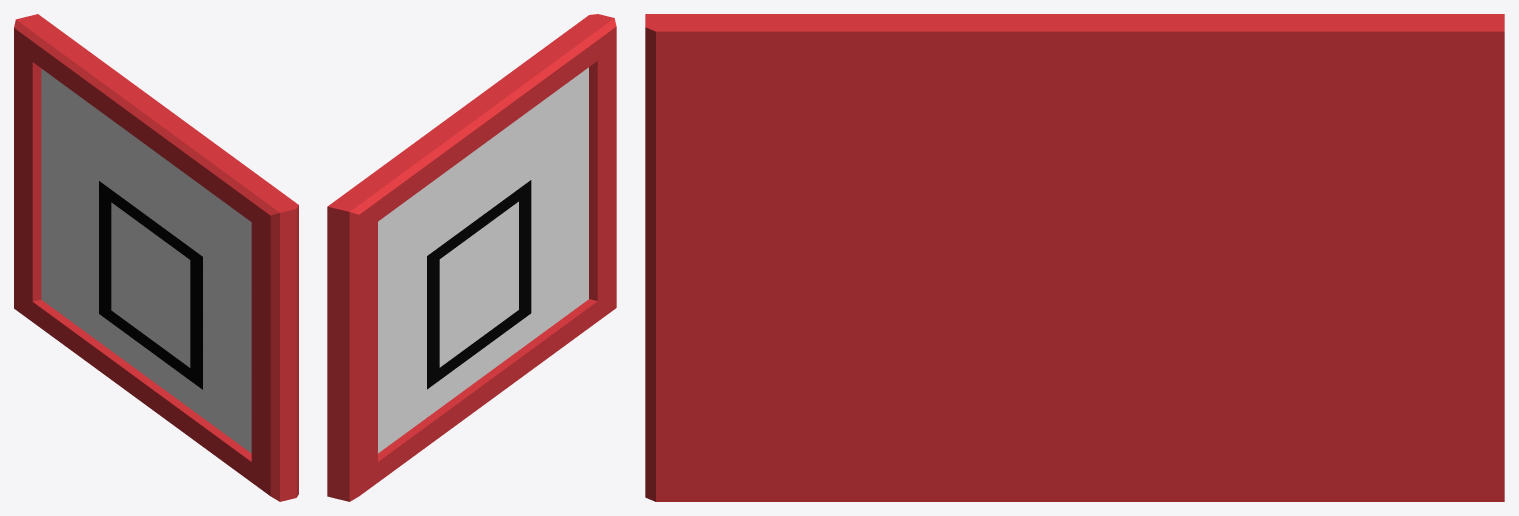
Rendered from Tablero.fbx.
The picture shows the model from 3 angles, left to right: view 1: azimuth 30°, elevation 25°; view 2: azimuth 150°, elevation 25°; view 3: azimuth 270°, elevation 25°; orthographic projection. The views are drawn at different scales.
Visible parts, largest first — view 1: Tablero; view 2: Tablero; view 3: Tablero.
Boxes of the visible parts, x1,y1,x2,y2 form: Tablero: (14, 14, 298, 501); Tablero: (327, 14, 616, 501); Tablero: (645, 14, 1504, 501).
Bounding box in the file's own units: 0.0858 × 0.8501 × 1.41.
